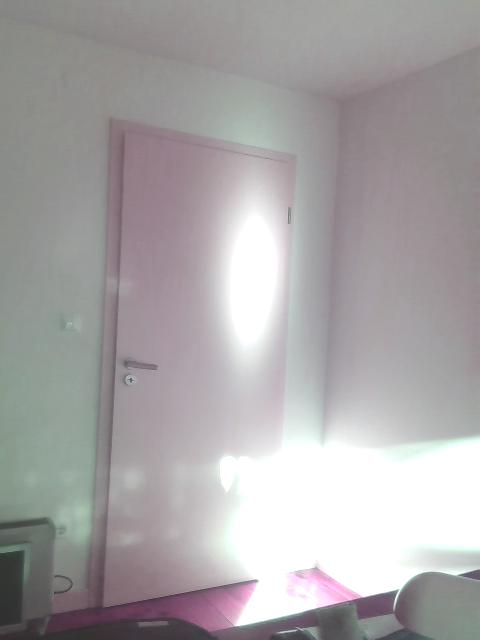closed_door: (92, 117, 297, 614)
